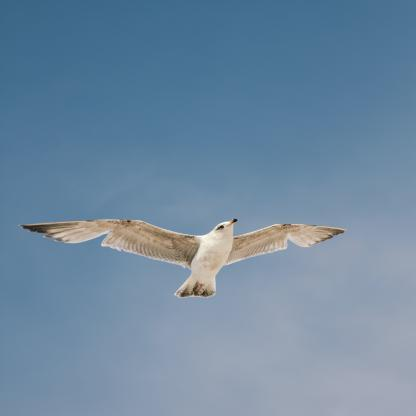bird: (18, 217, 346, 298)
